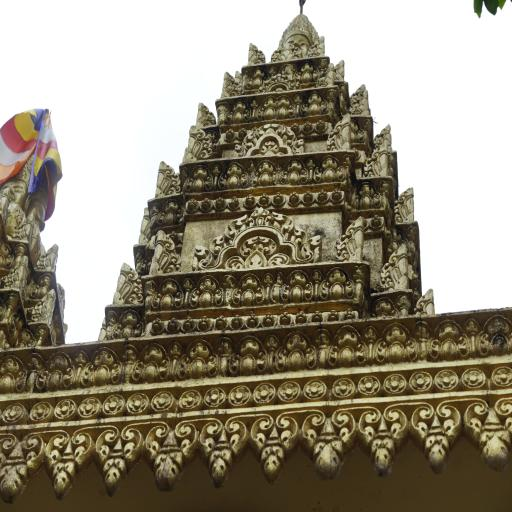hoa: (270, 266, 320, 303), (319, 264, 354, 301), (152, 276, 186, 313), (188, 278, 228, 309), (232, 271, 266, 302), (96, 384, 124, 418), (385, 365, 417, 392), (124, 384, 152, 414), (457, 360, 485, 390), (25, 391, 51, 423), (223, 382, 252, 410), (149, 382, 174, 414), (74, 387, 101, 416), (174, 385, 201, 412), (50, 394, 78, 420), (275, 380, 302, 406), (435, 365, 461, 392), (487, 363, 512, 391), (408, 365, 432, 393), (248, 378, 274, 403), (302, 378, 326, 404), (197, 384, 224, 406), (2, 400, 26, 424), (331, 376, 356, 398), (358, 373, 378, 397)
la: (296, 409, 358, 486), (355, 401, 406, 491), (145, 418, 199, 496), (411, 402, 463, 478), (250, 413, 300, 489), (94, 418, 141, 498), (462, 397, 512, 472), (200, 418, 251, 491), (44, 423, 92, 499), (0, 431, 46, 507), (424, 319, 473, 363), (373, 325, 421, 368), (272, 332, 321, 372), (168, 343, 224, 378), (322, 328, 370, 368), (226, 337, 274, 374), (472, 313, 512, 356), (35, 355, 79, 392), (78, 349, 120, 384), (129, 348, 174, 377), (215, 158, 251, 188), (183, 164, 216, 194), (0, 354, 27, 390), (255, 96, 299, 118), (312, 156, 345, 185), (290, 59, 322, 88), (248, 162, 280, 190), (279, 160, 310, 187), (298, 91, 330, 116), (225, 100, 252, 125), (247, 66, 271, 90)
ran: (150, 151, 181, 205), (110, 257, 142, 309), (148, 224, 181, 272), (334, 210, 365, 260), (383, 239, 412, 290), (392, 180, 418, 225), (180, 123, 207, 165), (346, 84, 376, 119), (362, 143, 391, 178), (332, 109, 352, 155), (193, 100, 219, 133), (327, 51, 352, 85), (246, 36, 272, 67), (219, 64, 242, 98), (416, 282, 437, 318), (310, 34, 334, 64), (374, 123, 395, 154)
than: (276, 9, 320, 57)
